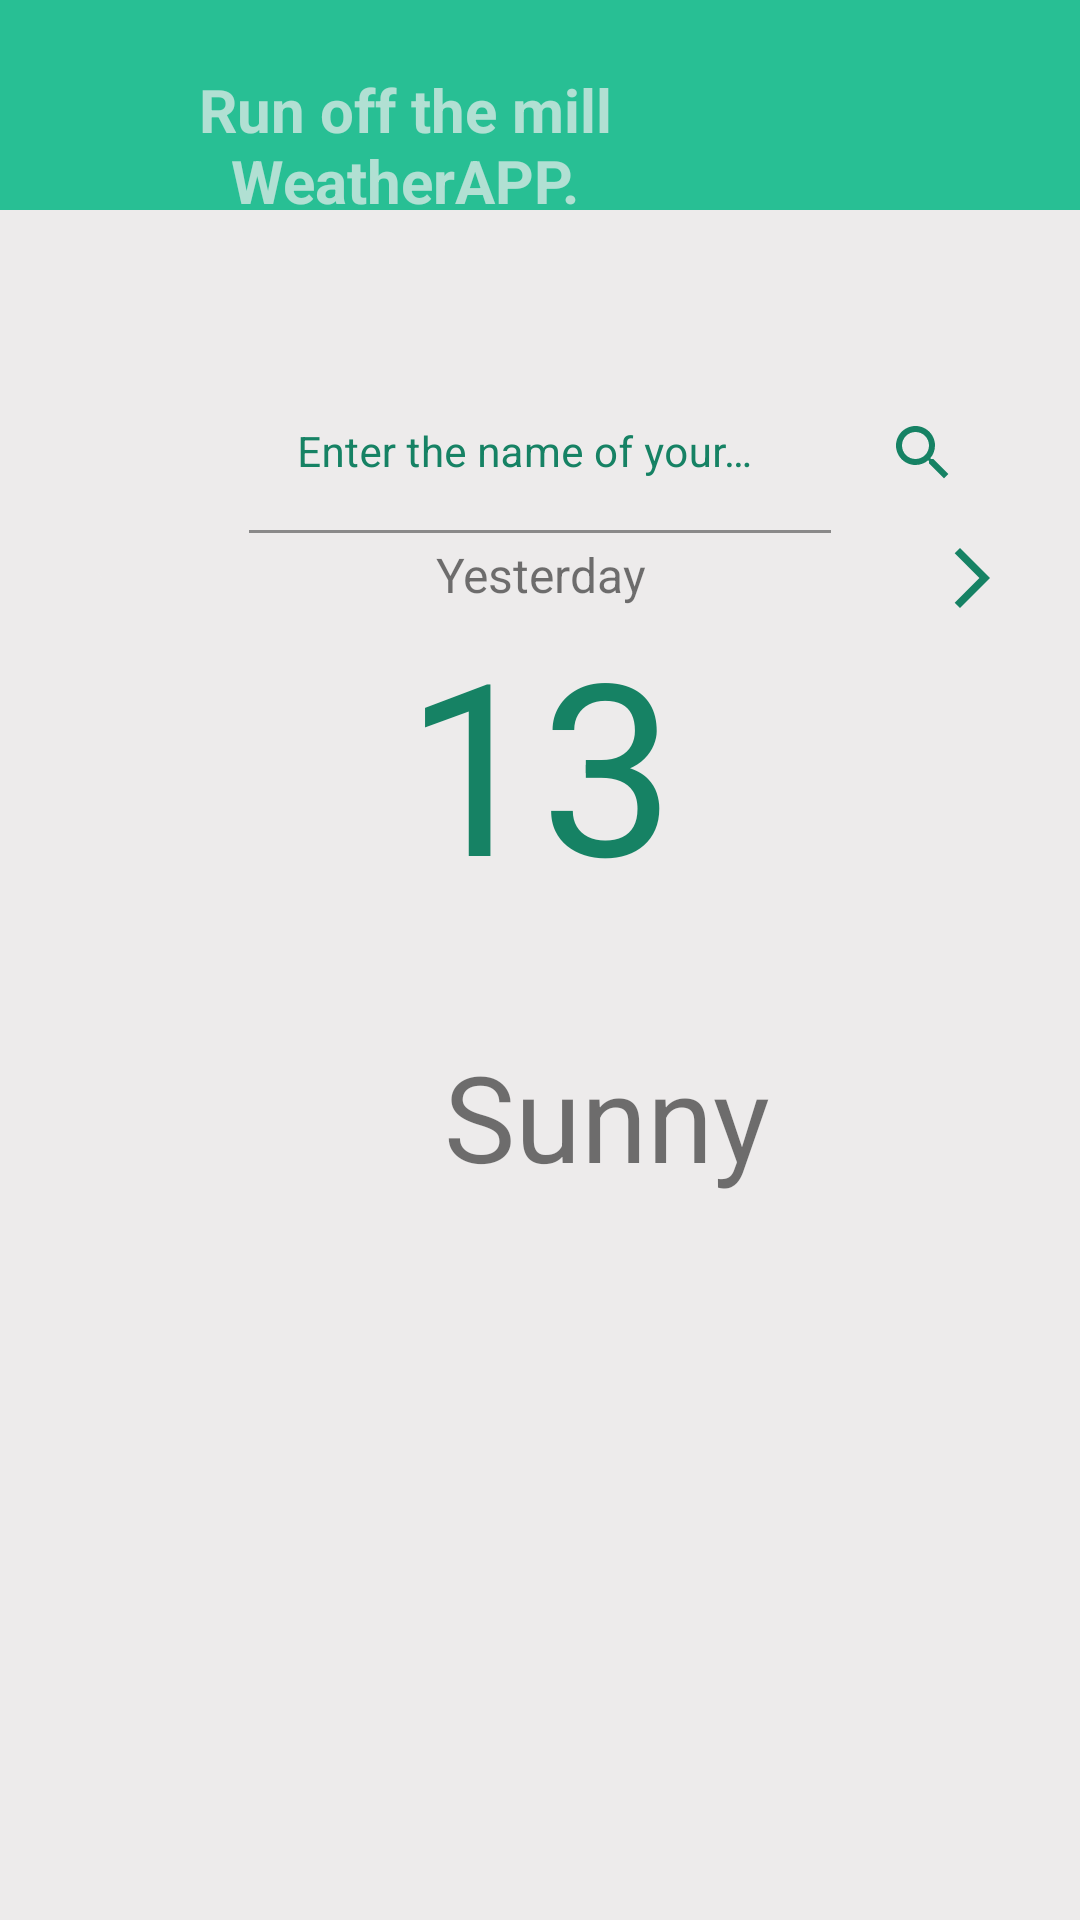

Locate icon controls on the screen. Image size 1080x1920, boxes as bbox(x1, y1, x2, y2).
arrow forward: bbox(955, 548, 990, 608)
search: bbox(896, 426, 948, 478)
